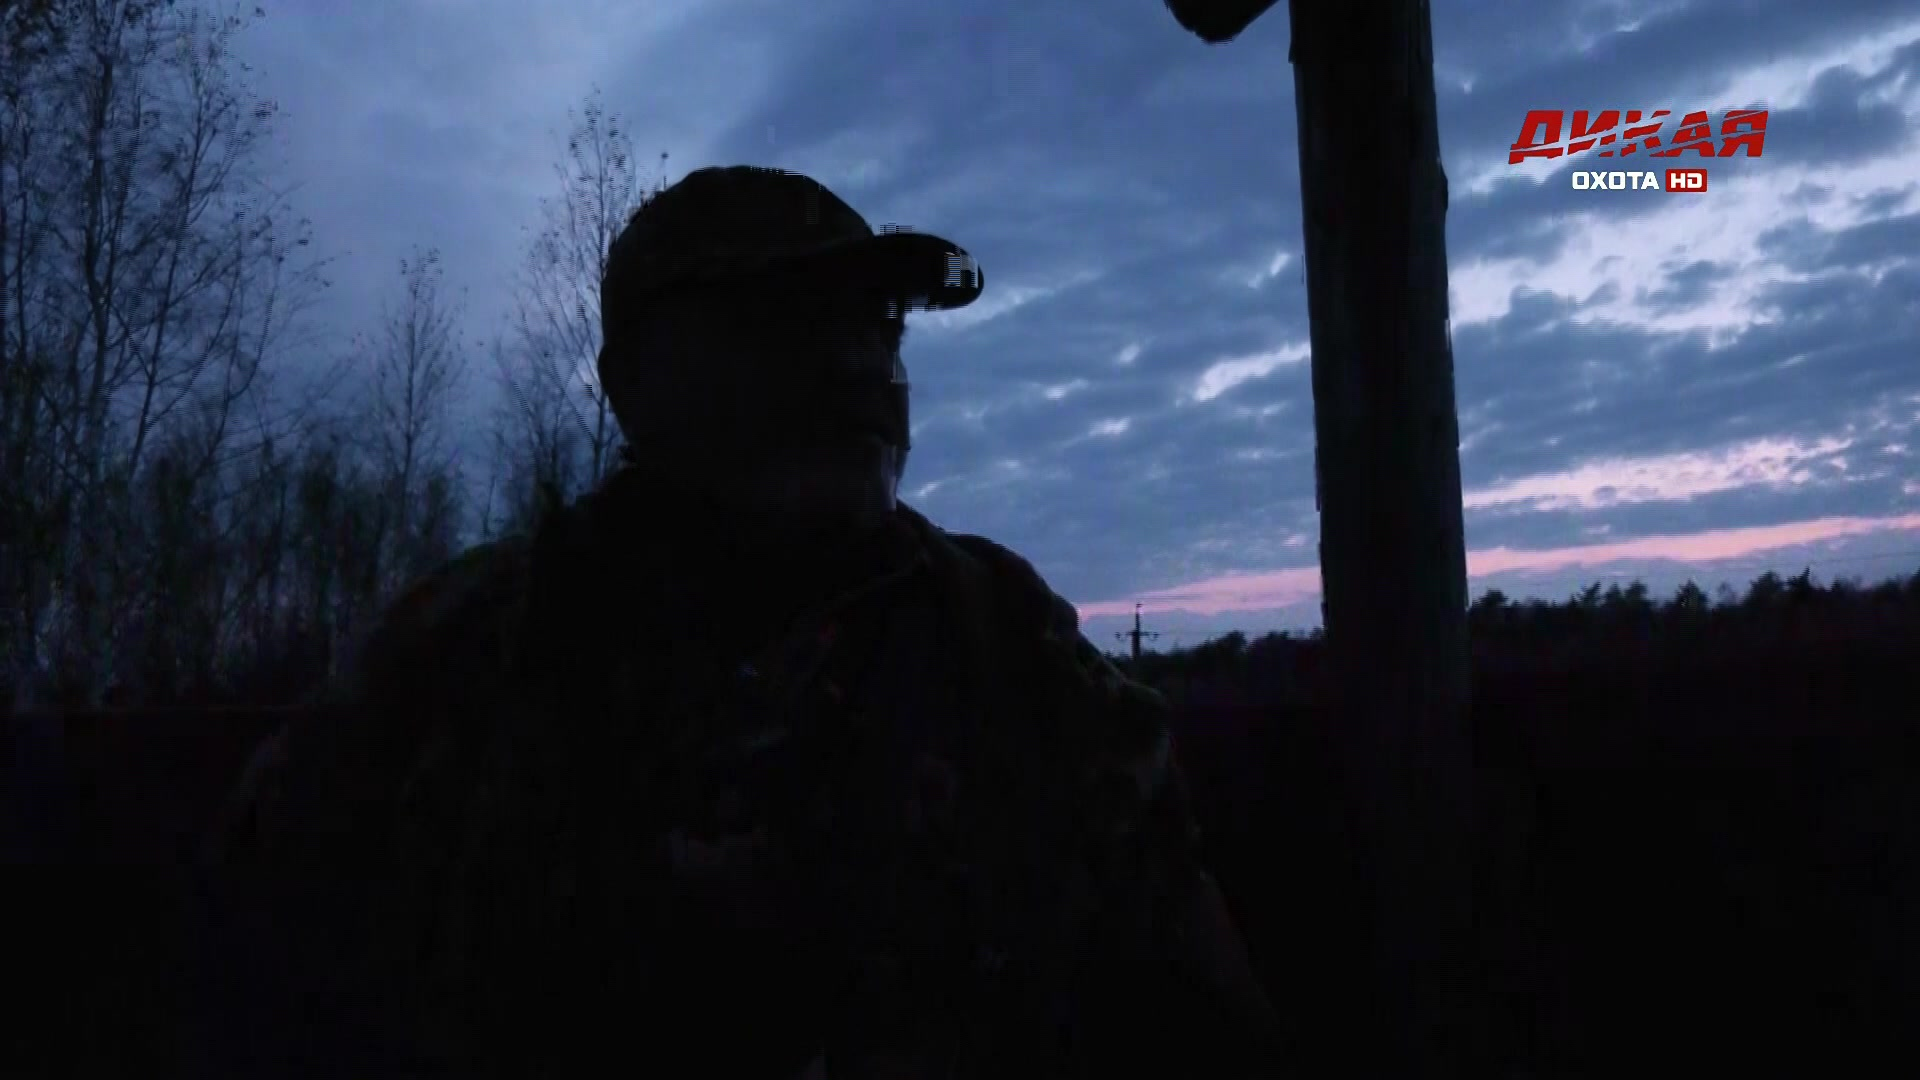Dikaya_Ohota_HD: (1501, 105, 1776, 196)
